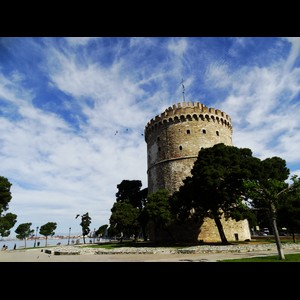White Tower: (141, 82, 248, 242)
